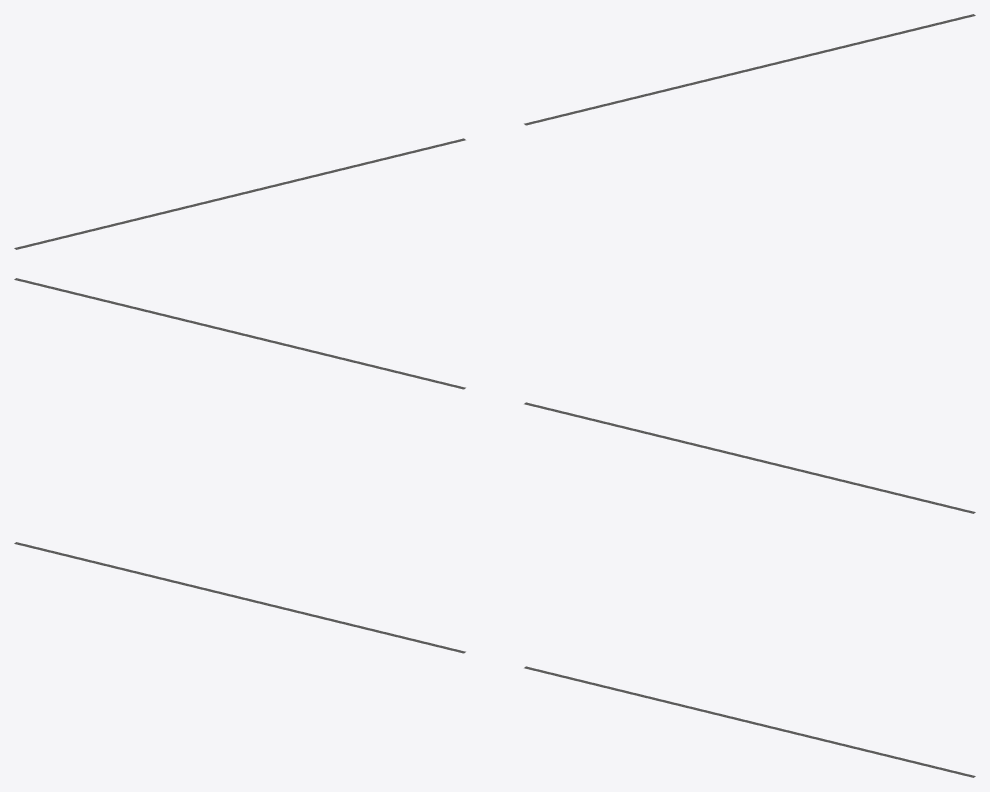
Rendered from road_extension.glb.
3 renders of one model, top to bottom at view 1: azimuth 30°, elevation 25°; view 2: azimuth 150°, elevation 25°; view 3: azimuth 330°, elevation 25°, orthographic.
Visible parts, largest first — view 1: road_extension_asphalt; view 2: road_extension_asphalt; view 3: road_extension_asphalt.
Part boxes in pixels (x1,y1,x2,y2): road_extension_asphalt: [14, 14, 975, 249]; road_extension_asphalt: [14, 278, 975, 513]; road_extension_asphalt: [14, 542, 975, 777].
Bounding box in the file's own units: 1800 × 0.035 × 8.
Materials: 2 (2 with a texture image).
